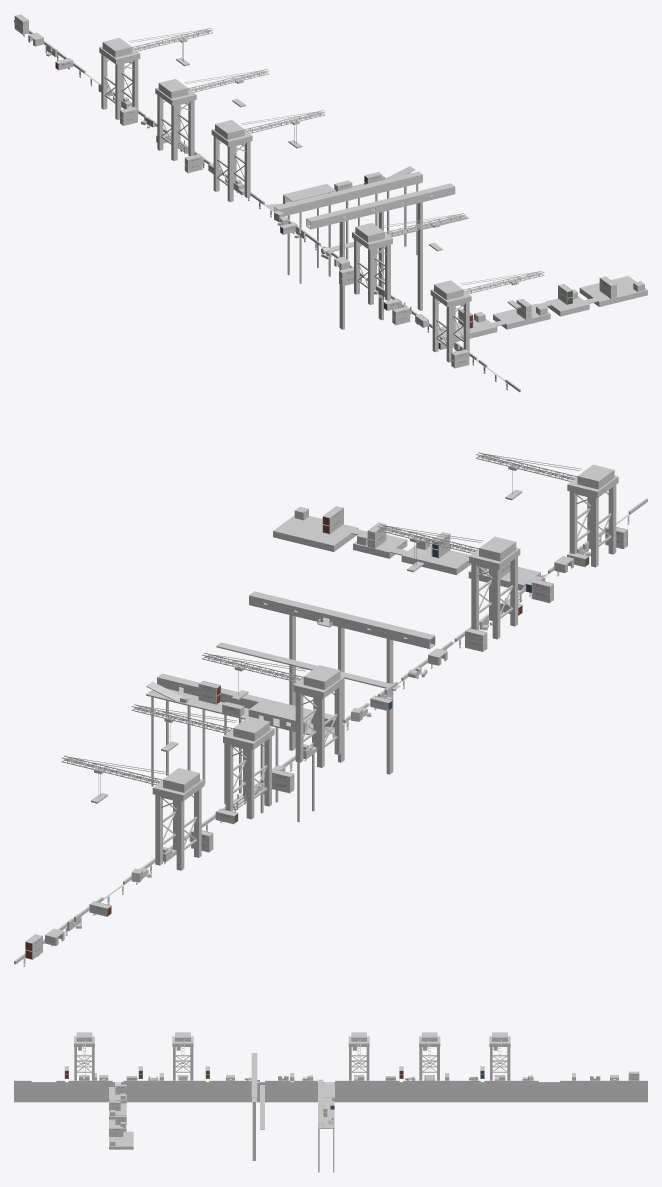
File: quay_front.glb
The picture shows the model from 3 angles, top to bottom: view 1: azimuth 30°, elevation 25°; view 2: azimuth 150°, elevation 25°; view 3: azimuth 270°, elevation 25°; orthographic projection. The views are drawn at different scales.
Parts seen in each view (by area): view 1: quay_front; view 2: quay_front; view 3: quay_front.
Part boxes in pixels (x1,y1,x2,y2): quay_front: (14, 14, 647, 392); quay_front: (14, 452, 647, 966); quay_front: (14, 1032, 647, 1172).
Size of the model in its own units: 94 by 58.1 by 360.
3 materials, 2 textured.
